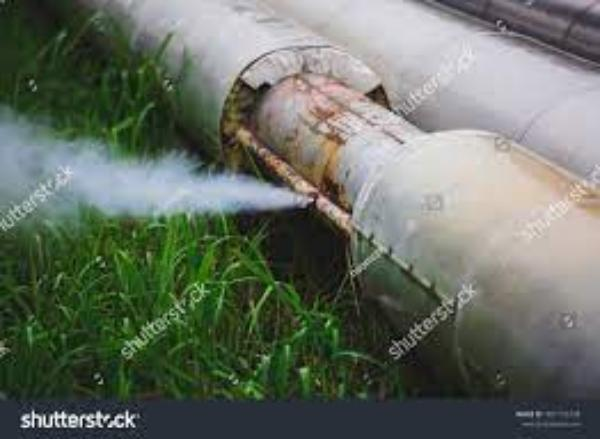gas: (3, 0, 445, 368)
